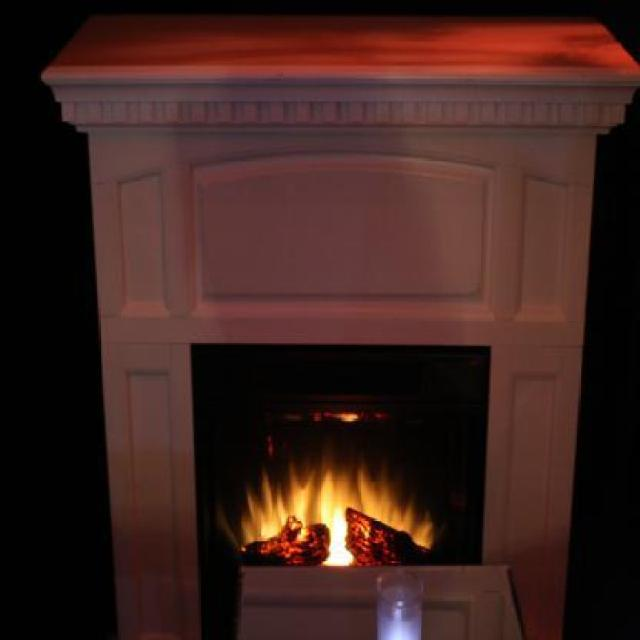Fire: (348, 514, 390, 568), (282, 478, 330, 517), (264, 538, 326, 564), (348, 482, 394, 515), (316, 470, 349, 513), (250, 504, 288, 536), (399, 511, 433, 544), (328, 518, 346, 568)
